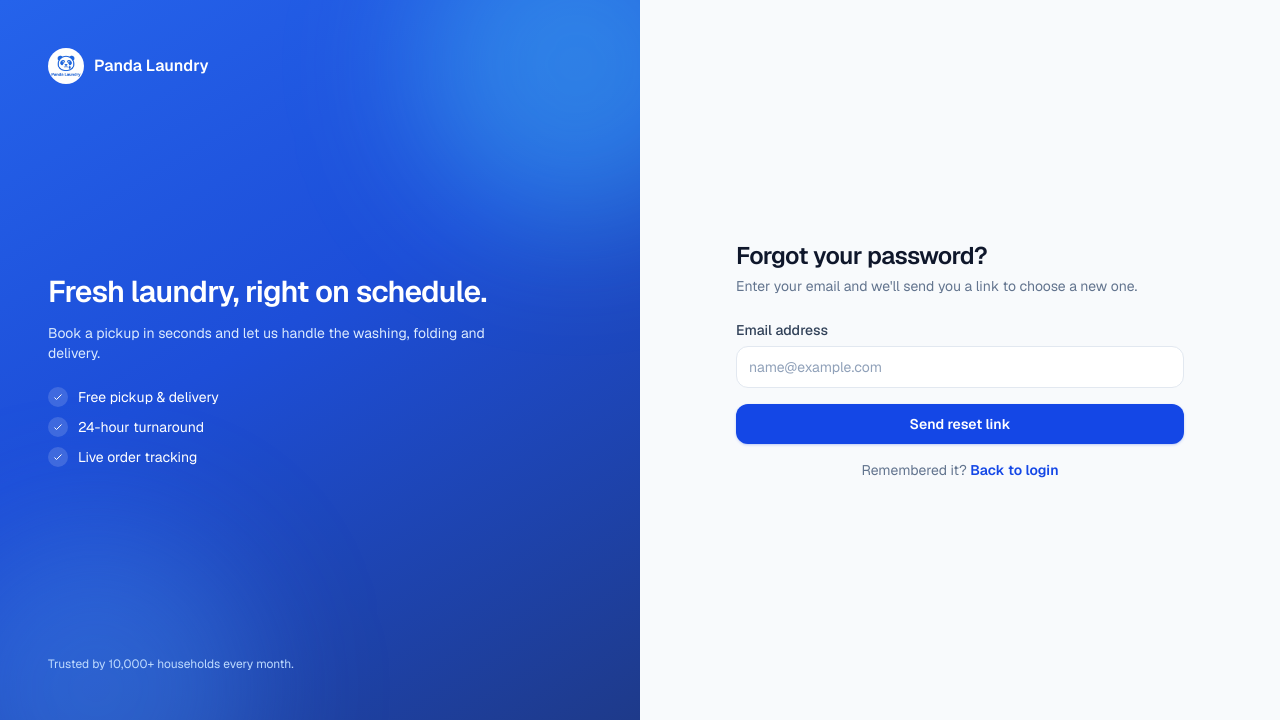
Test case: Password reset › sends the reset email without revealing whether the account exists
Type "jane@example.com" into the field labelled "Email address".
click(960, 367); type("jane@example.com")  # box [736, 346, 1184, 388]
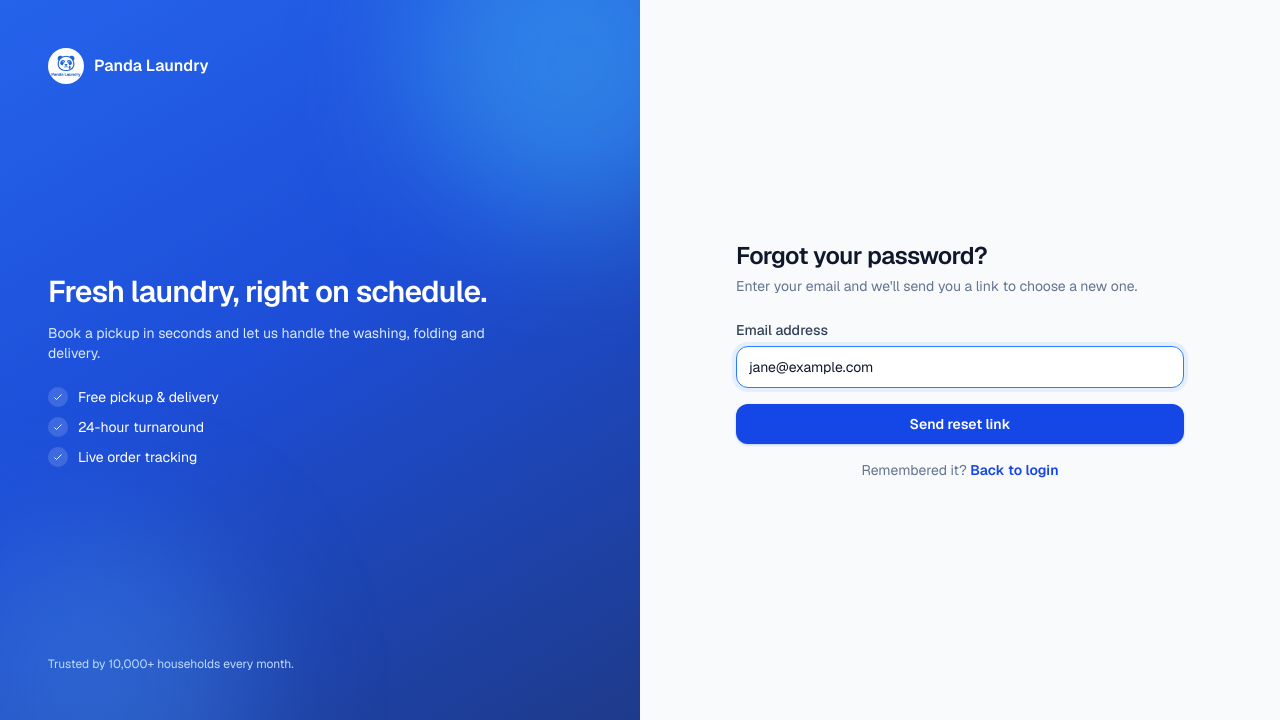
Click the button "Send reset link".
click(960, 424)  # box [736, 404, 1184, 444]
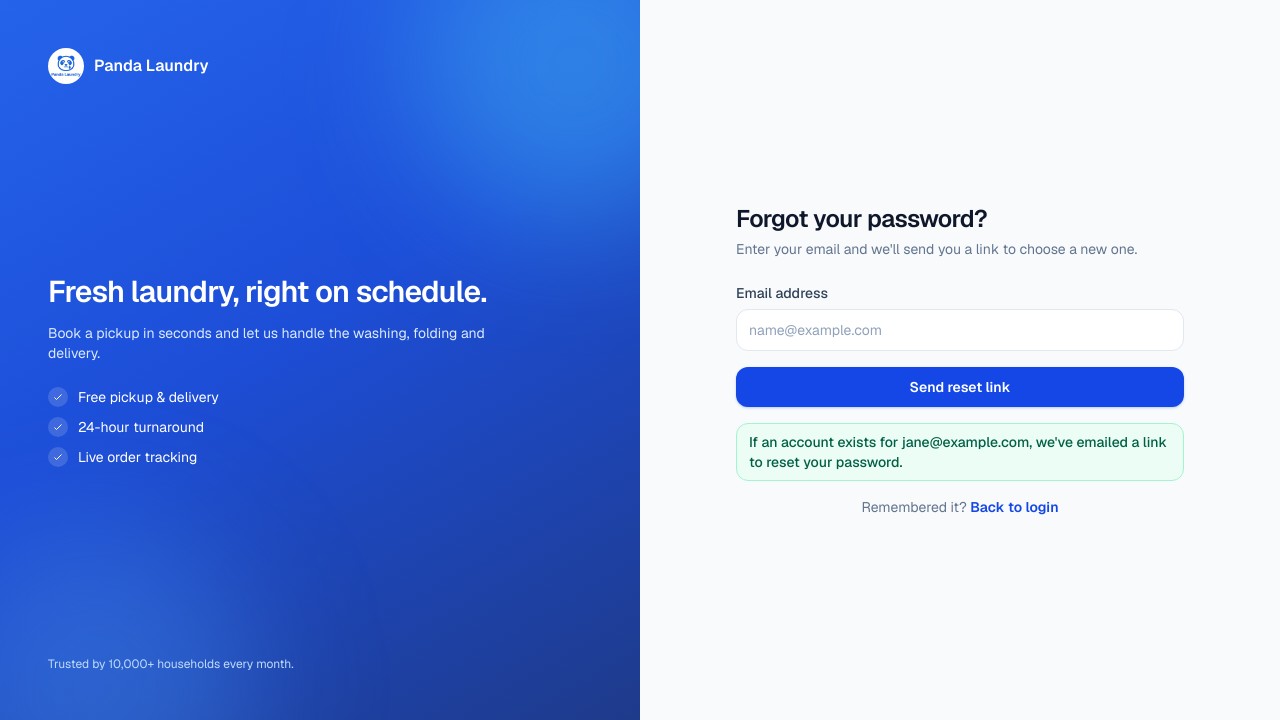
Now the text "If an account exists for jane@example.com" is shown, box [749, 433, 1167, 471]
